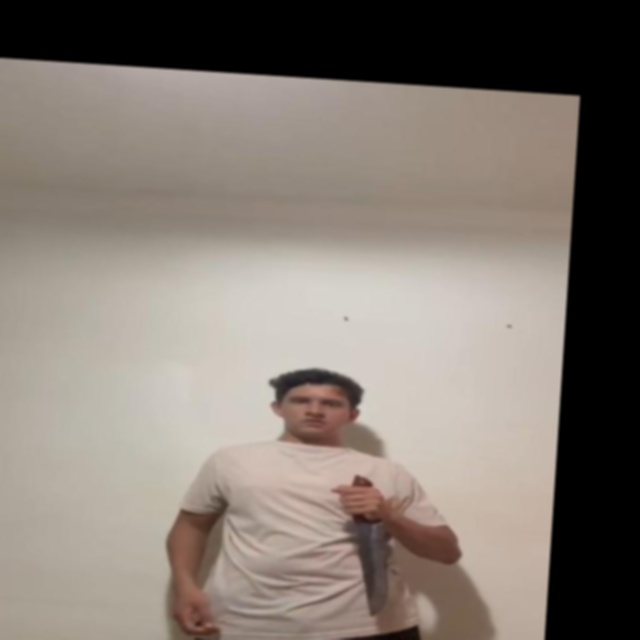Sharp-Object: (352, 518, 397, 615)
